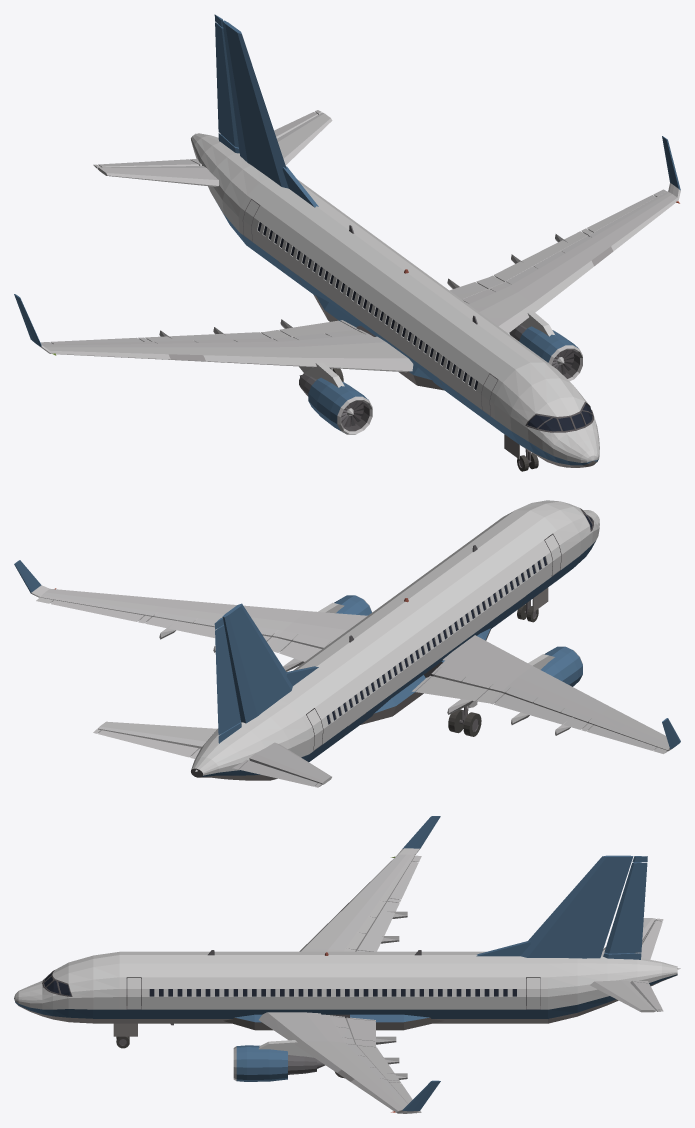
File: narrow-body-airliner-619183.glb
The picture shows the model from 3 angles, top to bottom: view 1: azimuth 30°, elevation 25°; view 2: azimuth 150°, elevation 25°; view 3: azimuth 270°, elevation 25°; orthographic projection. The views are drawn at different scales.
Parts seen in each view (by area): view 1: airframe, rudder-mesh, flap-outer-l-mesh, flap-outer-r-mesh, flap-inner-r-mesh; view 2: airframe, rudder-mesh, flap-outer-r-mesh, flap-inner-r-mesh, elevator-l-mesh, gear-main-r-mesh, flap-outer-l-mesh, elevator-r-mesh, aileron-l-mesh, spoiler-outer-r-mesh, spoiler-inner-r-mesh, aileron-r-mesh (+2 smaller); view 3: airframe, rudder-mesh, flap-outer-r-mesh, flap-outer-l-mesh, flap-inner-l-mesh, spoiler-outer-r-mesh, door-l2-mesh, elevator-r-mesh.
Boxes of the visible parts, left/top/right/bottom form: airframe: left=14, top=14, right=680, bottom=467; rudder-mesh: left=215, top=22, right=238, bottom=147; flap-outer-l-mesh: left=494, top=231, right=587, bottom=282; flap-outer-r-mesh: left=145, top=332, right=270, bottom=341; flap-inner-r-mesh: left=279, top=320, right=355, bottom=338; airframe: left=14, top=500, right=680, bottom=787; rudder-mesh: left=215, top=624, right=240, bottom=734; flap-outer-r-mesh: left=494, top=694, right=588, bottom=729; flap-inner-r-mesh: left=415, top=676, right=488, bottom=700; elevator-l-mesh: left=98, top=730, right=198, bottom=757; gear-main-r-mesh: left=448, top=706, right=481, bottom=736; flap-outer-l-mesh: left=145, top=617, right=271, bottom=641; elevator-r-mesh: left=239, top=760, right=317, bottom=786; aileron-l-mesh: left=51, top=600, right=144, bottom=621; spoiler-outer-r-mesh: left=506, top=687, right=591, bottom=721; spoiler-inner-r-mesh: left=434, top=666, right=495, bottom=688; aileron-r-mesh: left=587, top=725, right=656, bottom=750; airframe: left=14, top=816, right=680, bottom=1113; rudder-mesh: left=604, top=862, right=647, bottom=953; flap-outer-r-mesh: left=355, top=901, right=399, bottom=951; flap-outer-l-mesh: left=357, top=1045, right=399, bottom=1080; flap-inner-l-mesh: left=346, top=1018, right=375, bottom=1041; spoiler-outer-r-mesh: left=346, top=901, right=385, bottom=949; door-l2-mesh: left=526, top=978, right=540, bottom=1009; elevator-r-mesh: left=636, top=920, right=662, bottom=959.
Size of the model in its own units: 35.78 by 11.9 by 38.01.
